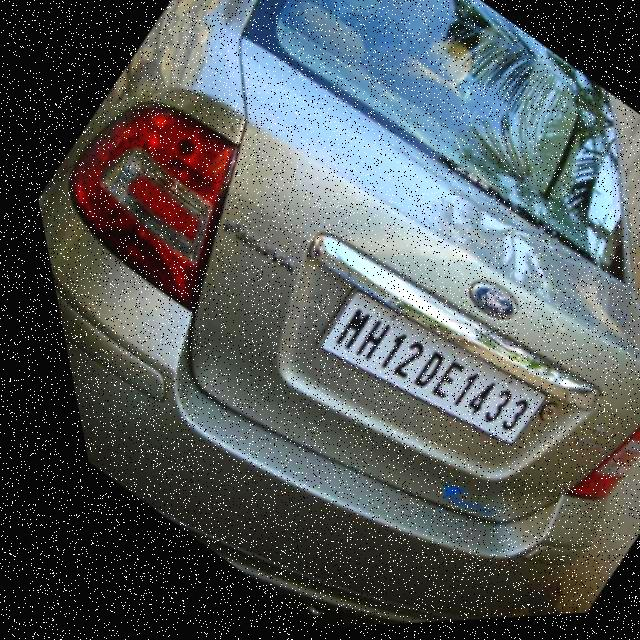license_plate: (287, 268, 538, 490)
